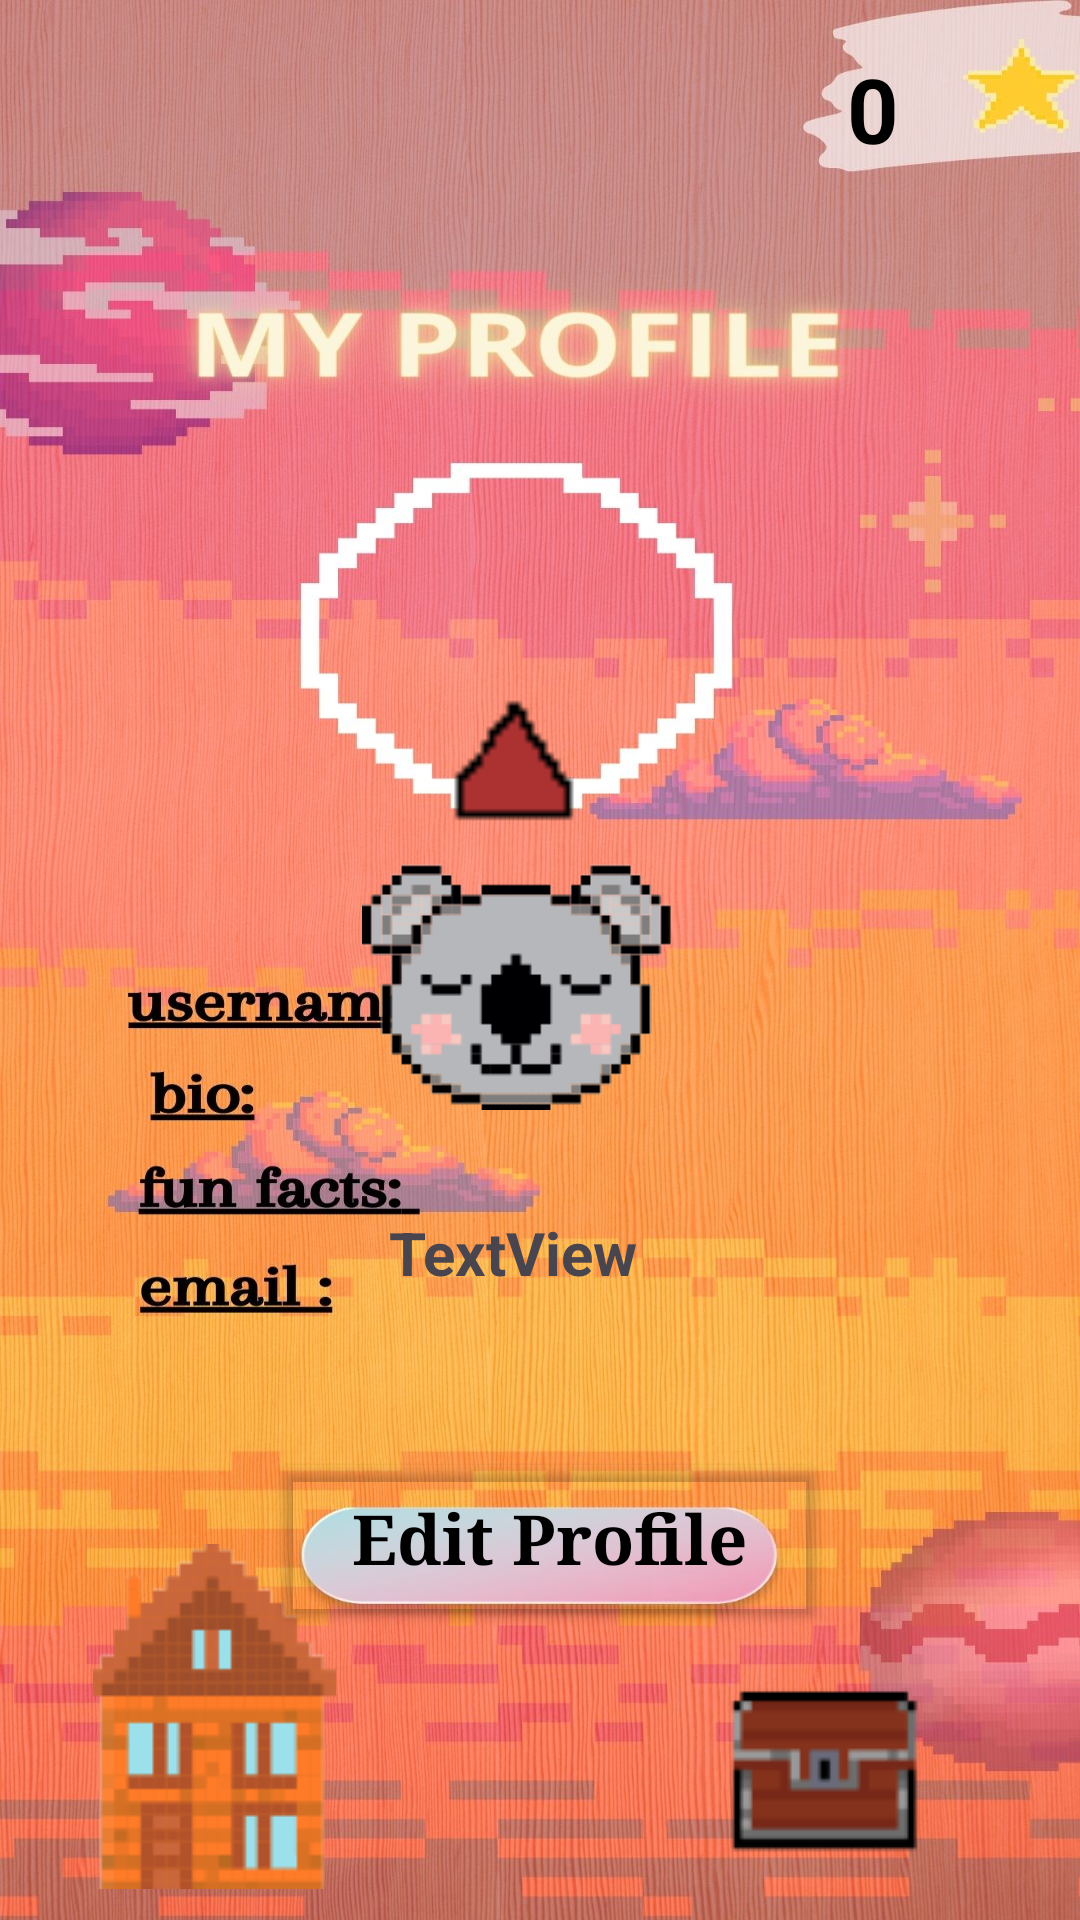

Icon click points for this 1080px x 1920px phone screenshot, format point (x, y):
head: point (517, 987)
homepage: point (214, 1716)
